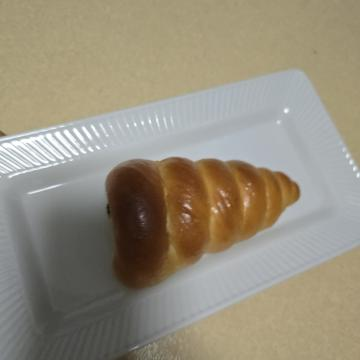cream horn: (134, 47, 317, 273)
